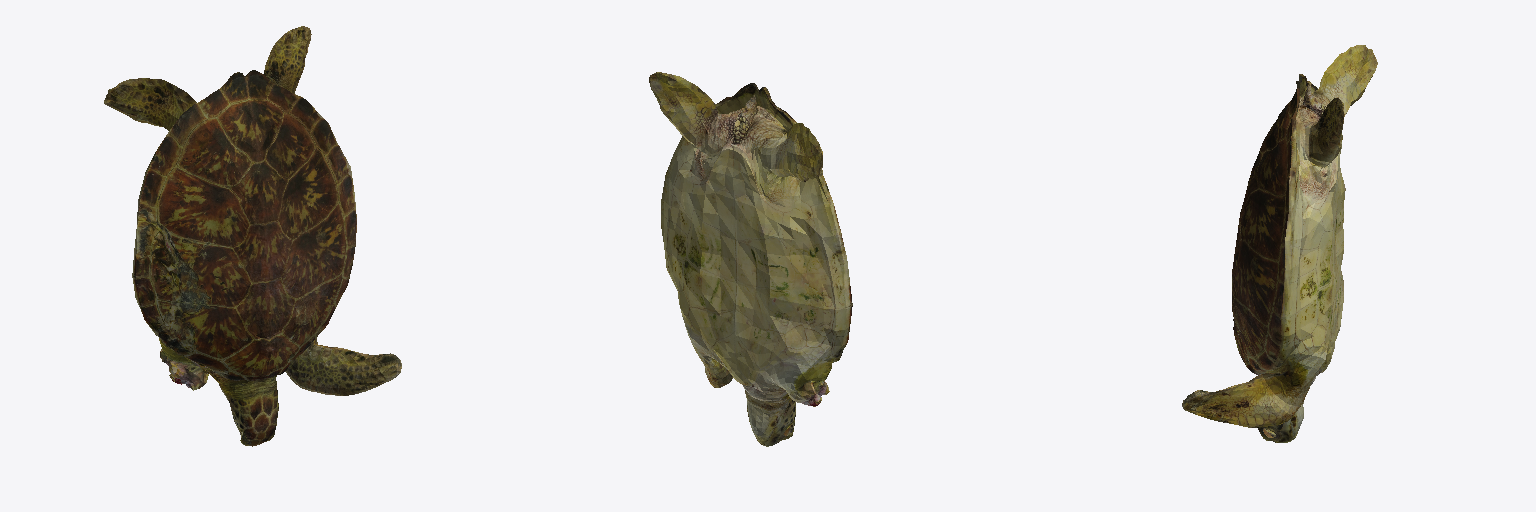
3 renders of one model, left to right at view 1: azimuth 30°, elevation 25°; view 2: azimuth 150°, elevation 25°; view 3: azimuth 270°, elevation 25°, orthographic.
Parts seen in each view (by area): view 1: Object.2; view 2: Object.2; view 3: Object.2.
Boxes of the visible parts, box(x1,y1,x2,y2) form: Object.2: box(104, 26, 401, 446); Object.2: box(649, 72, 852, 446); Object.2: box(1182, 45, 1377, 442).
Size of the model in its own units: 397 by 690 by 325.
3 materials, 3 textured.